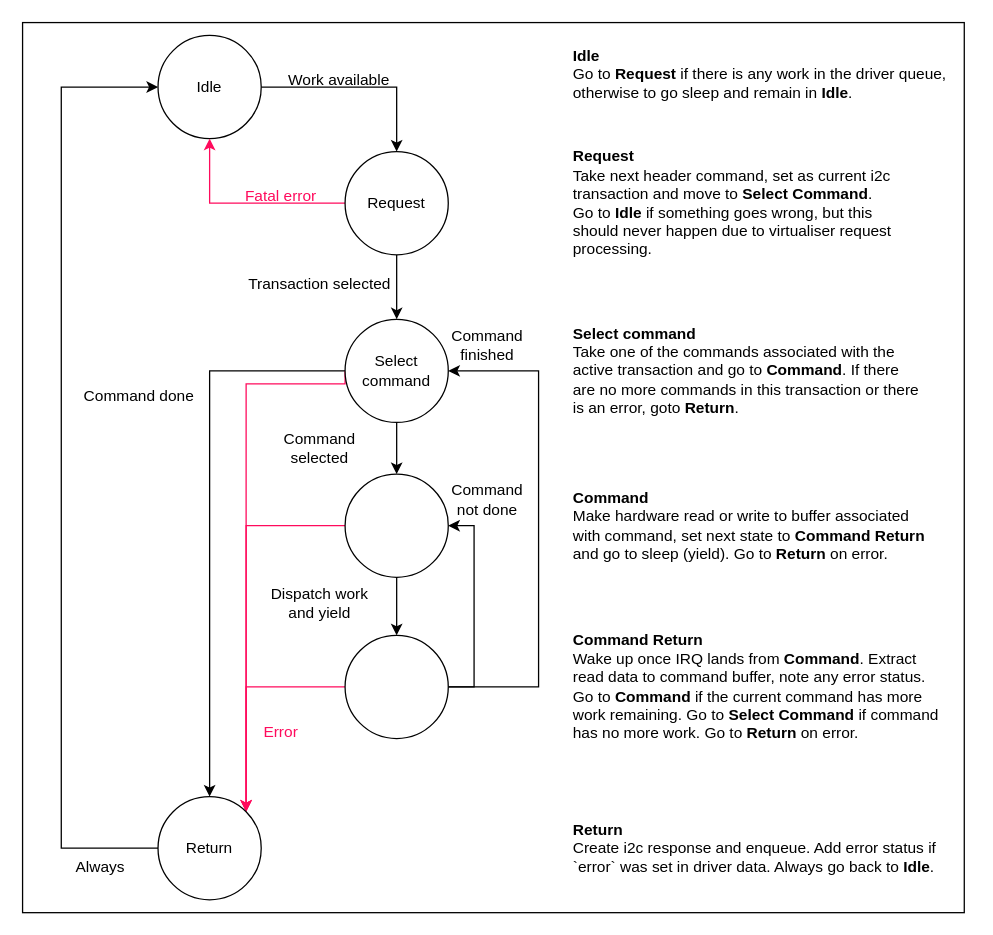
Some shapes in this 993 by 935 pixel diagram are drawn without their labels. The box of each missing label's shape, as (x1, y1, x2, y2) in pixels:
Command: (344, 473, 448, 577)
Command Return: (344, 634, 448, 739)
